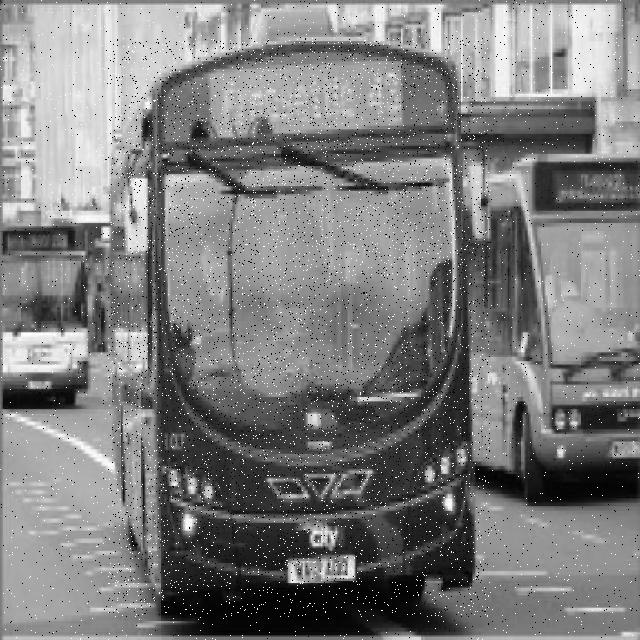Bus: (108, 38, 491, 617)
